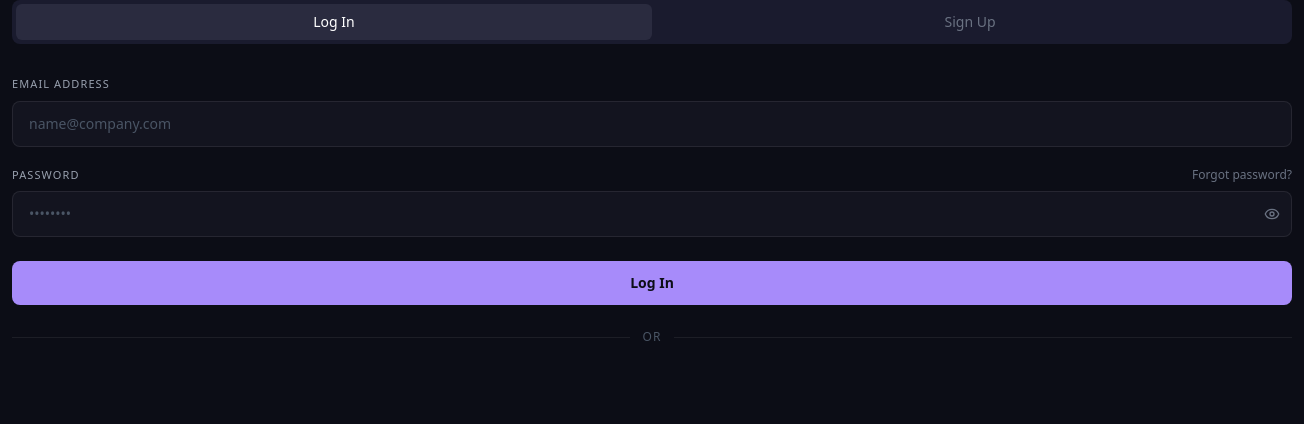
Test: LoginForm › shows the server's error message on failed login
Type "a@b.com" into the field with placeholder "name@company.com" at coordinates (652, 124), box x1=12 y1=100 x2=1292 y2=146
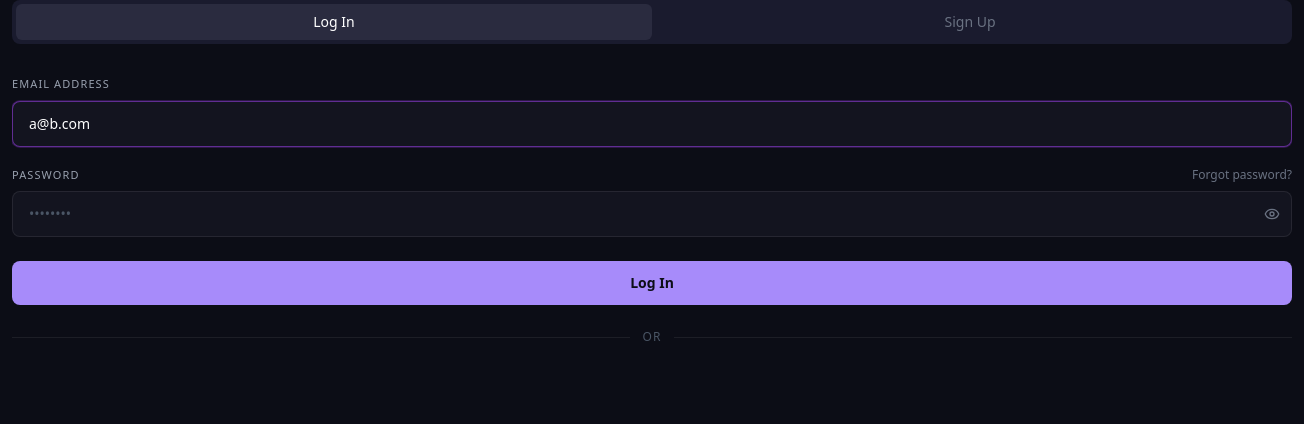
Type "Test1234!" into the password field with placeholder "••••••••" at coordinates (652, 214), box x1=12 y1=191 x2=1292 y2=237
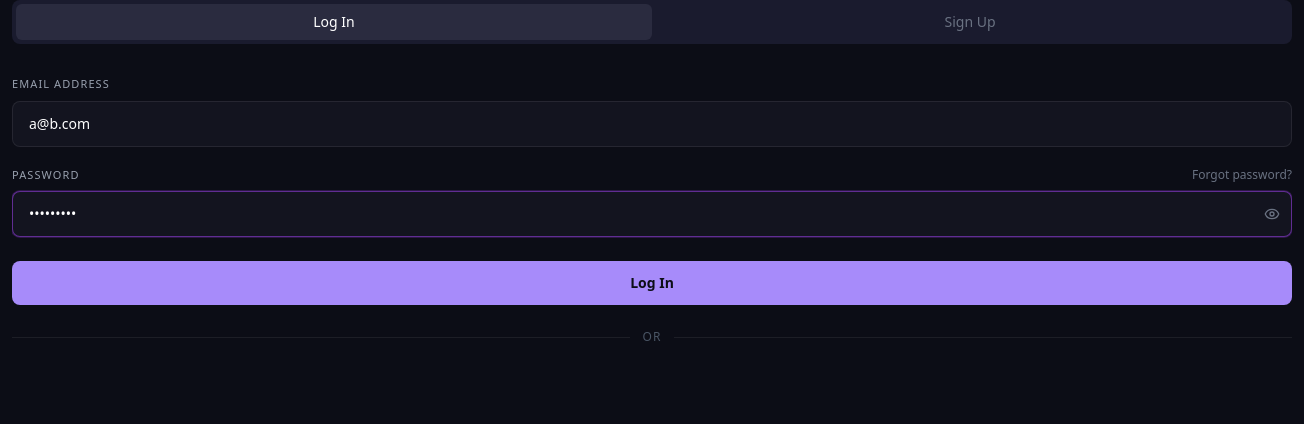
Click the button "Log In" at coordinates (652, 283), box x1=12 y1=261 x2=1292 y2=305
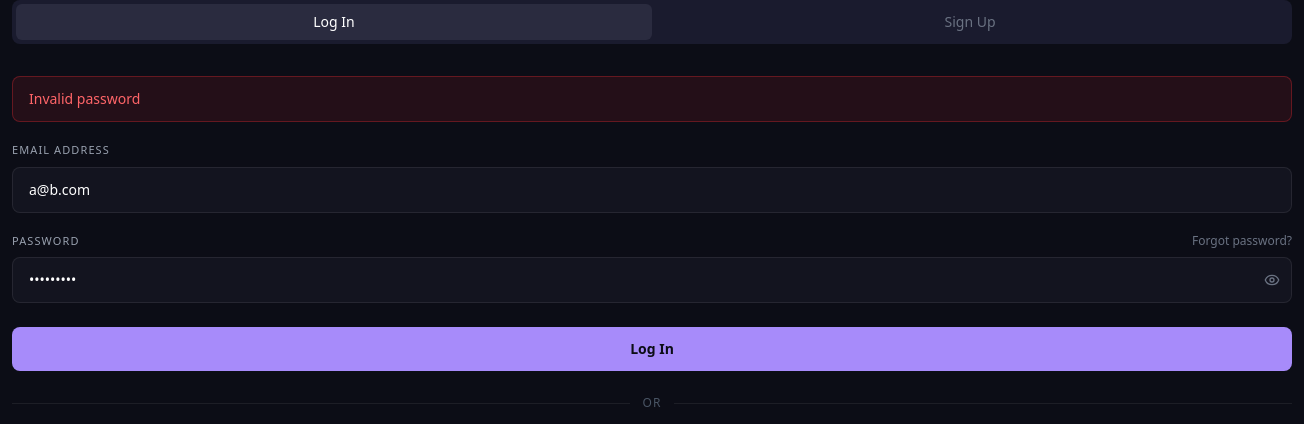
Result: the text "Invalid password" is shown at x1=12 y1=76 x2=1292 y2=122
